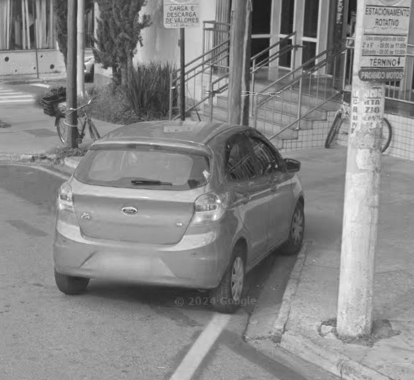car: (50, 87, 310, 319)
